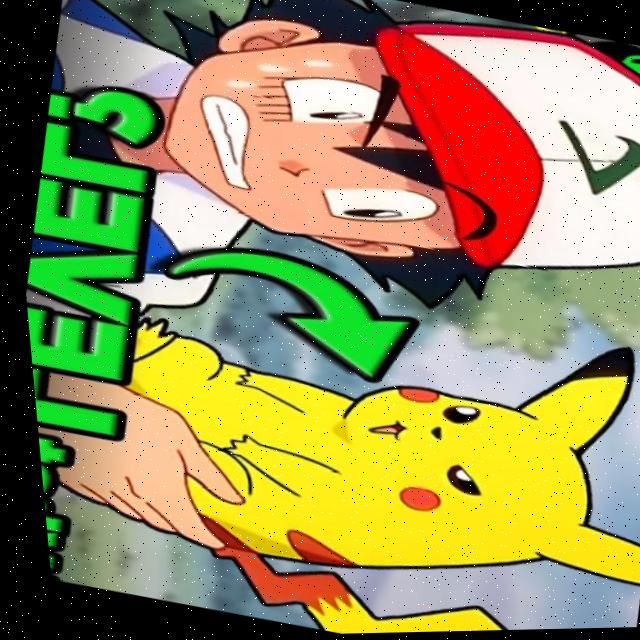Pikachu: (66, 226, 640, 639)
